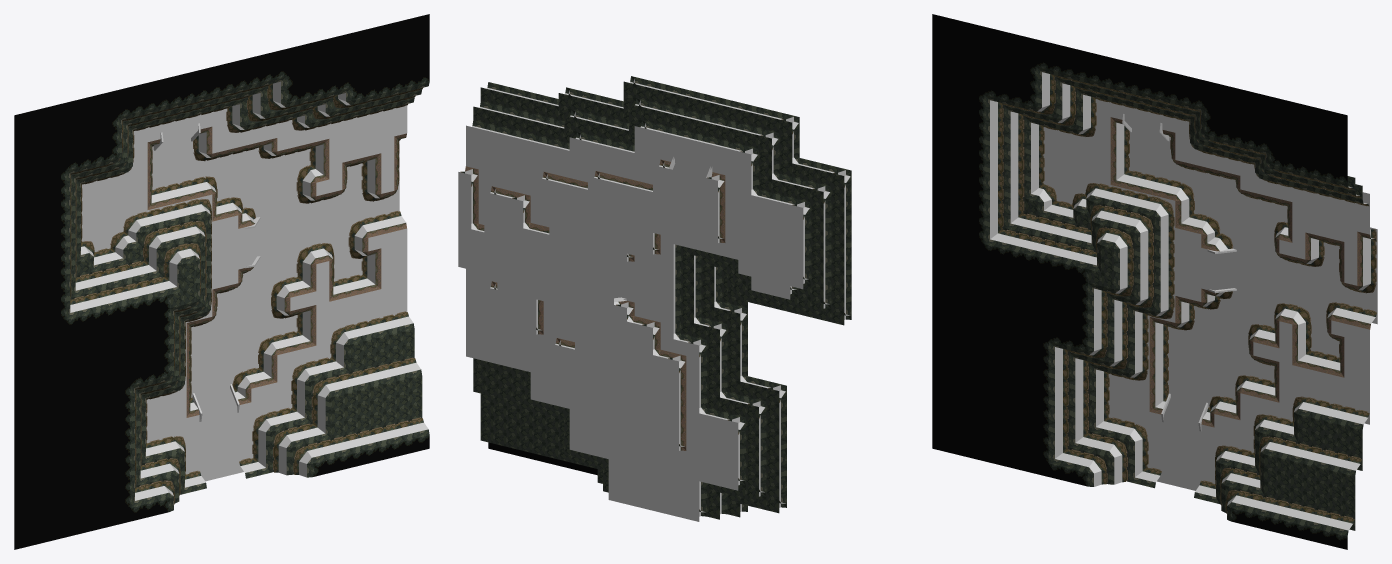
Rendered from Victory-Road-2_00_05.obj.
The picture shows the model from 3 angles, left to right: view 1: azimuth 30°, elevation 25°; view 2: azimuth 150°, elevation 25°; view 3: azimuth 330°, elevation 25°; orthographic projection.
Parts seen in each view (by area): view 1: map; view 2: map; view 3: map.
Part boxes in pixels (x1,y1,x2,y2): map: [14, 14, 429, 549]; map: [458, 76, 851, 521]; map: [932, 14, 1377, 549].
Size of the model in its own units: 32 by 32 by 4.01.
